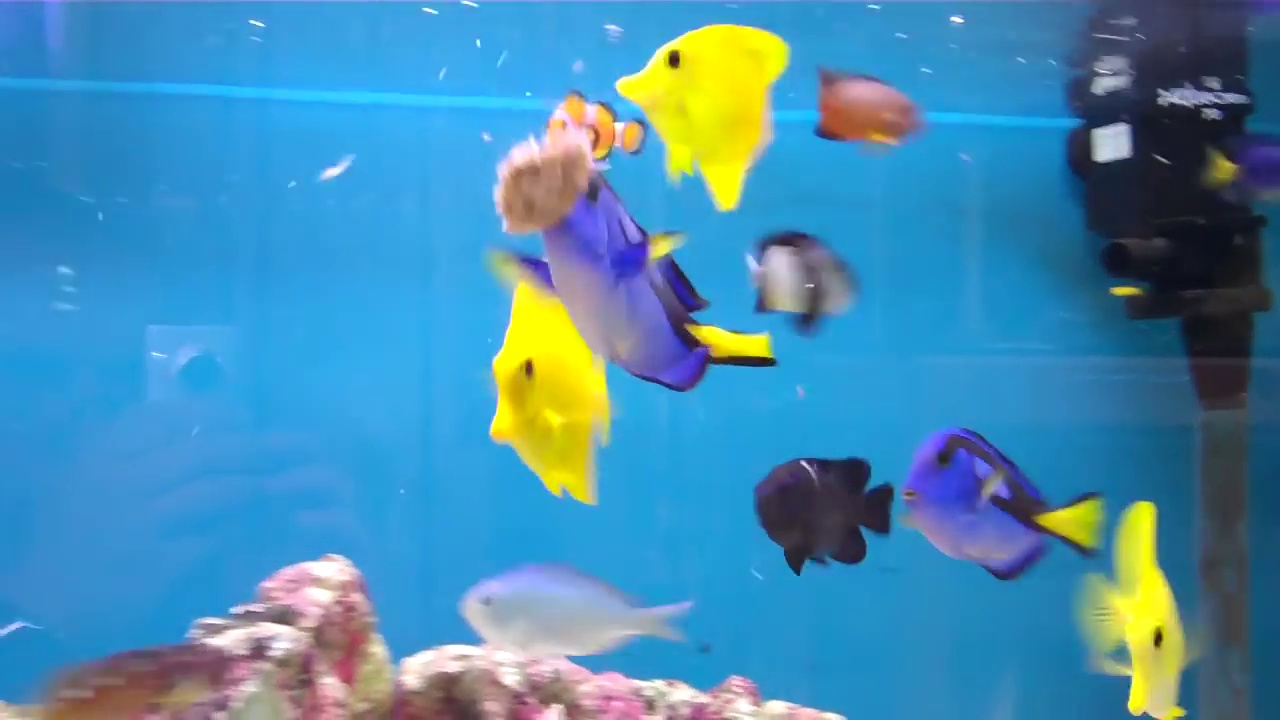blue tang surgeonfish: (536, 149, 779, 380), (886, 425, 1096, 581)
damselfish: (449, 555, 699, 671)
saddle butterfly fish: (482, 253, 616, 517), (612, 16, 789, 210), (1082, 498, 1204, 720)
